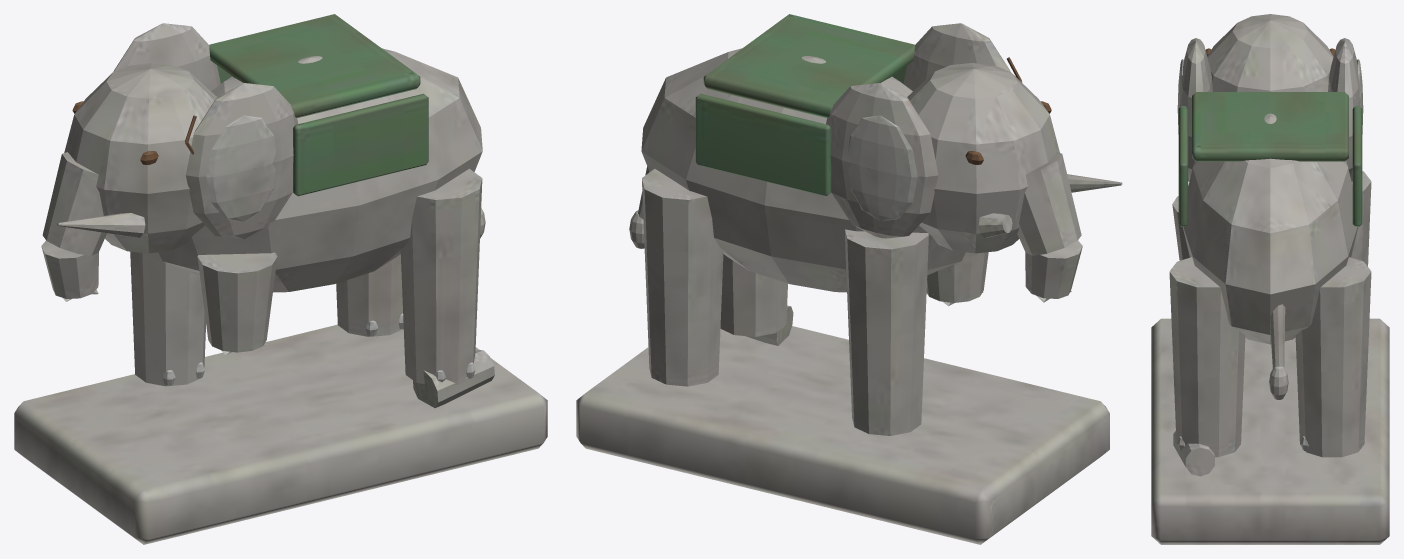
File: RE19_broken_garden_statue_v2.glb
3 views of the same model, side by side, from view 1: azimuth 30°, elevation 25°; view 2: azimuth 150°, elevation 25°; view 3: azimuth 270°, elevation 25° (orthographic). The views are drawn at different scales.
Parts seen in each view (by area): view 1: Elephant pedestal; view 2: Elephant pedestal; view 3: Elephant pedestal.
Part boxes in pixels (left/top/right/bottom): Elephant pedestal: left=14, top=14, right=547, bottom=544; Elephant pedestal: left=576, top=14, right=1122, bottom=544; Elephant pedestal: left=1151, top=14, right=1389, bottom=544.
Size of the model in its own units: 2 by 1.74 by 0.9877.
4 materials, 4 textured.
